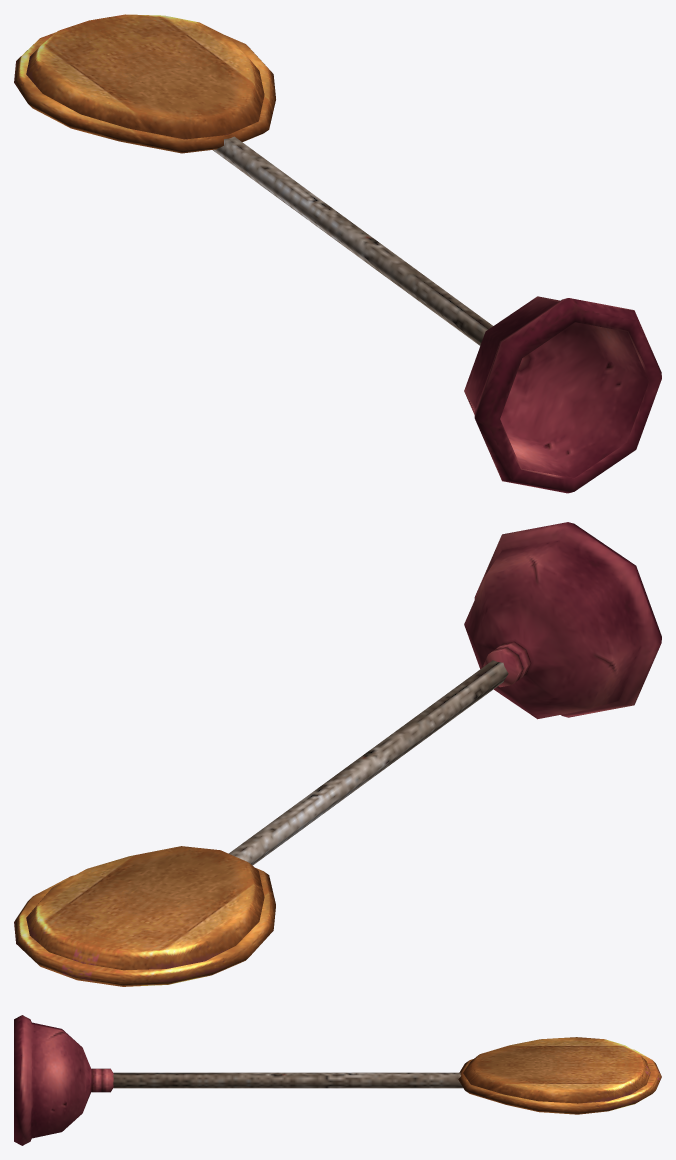
The model's file is we121_amh.OBJ.
3 views of the same model, one above another, from view 1: azimuth 30°, elevation 25°; view 2: azimuth 150°, elevation 25°; view 3: azimuth 270°, elevation 25° (orthographic). The views are drawn at different scales.
Visible parts, largest first — view 1: mesh_0, mesh_1; view 2: mesh_0, mesh_1; view 3: mesh_0, mesh_1.
Boxes of the visible parts, x1,y1,x2,y2 form: mesh_0: (213,136,661,493); mesh_1: (14,14,275,153); mesh_0: (229,522,661,865); mesh_1: (14,846,275,986); mesh_0: (14,1015,462,1145); mesh_1: (458,1037,661,1114).
Size of the model in its own units: 51.97 by 43.55 by 202.
Materials: 1 (1 with a texture image).
